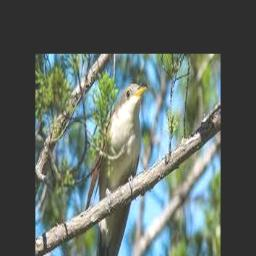Cuckoo: (85, 83, 148, 256)
